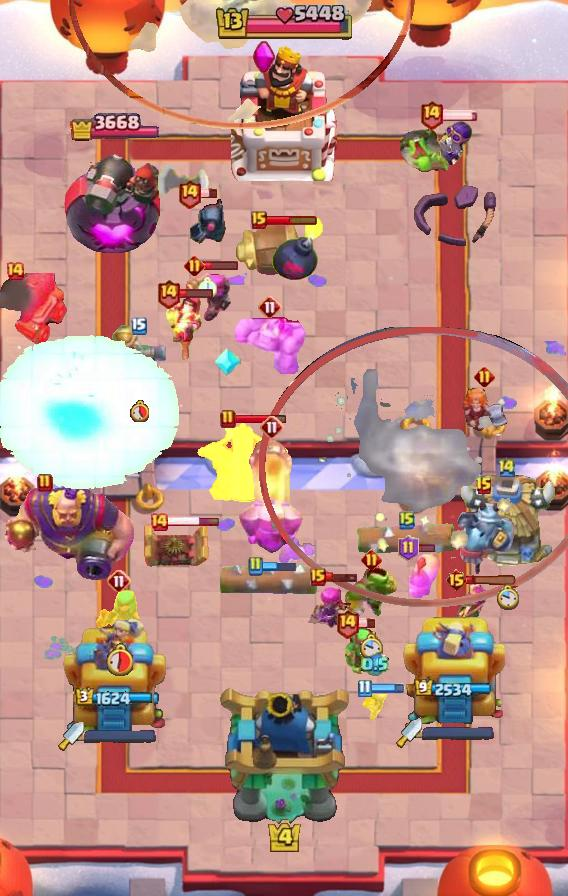archer: (454, 584, 490, 634)
archer-evolution: (302, 582, 352, 632)
axe: (157, 164, 209, 224)
bar: (265, 214, 318, 226), (166, 516, 220, 527), (234, 414, 287, 425), (466, 575, 518, 586), (441, 109, 479, 121), (323, 571, 359, 583), (262, 560, 297, 572), (202, 260, 239, 271), (369, 683, 405, 694), (178, 288, 214, 299), (357, 618, 376, 629), (199, 188, 218, 199), (417, 543, 436, 553)
bar-level: (335, 608, 360, 639), (156, 278, 181, 309), (177, 178, 202, 209), (419, 99, 444, 130), (107, 569, 131, 593), (260, 415, 284, 439), (258, 295, 282, 319), (445, 568, 468, 592), (398, 535, 419, 561), (361, 549, 382, 570), (474, 366, 495, 387), (184, 255, 205, 276), (497, 457, 517, 478), (149, 512, 169, 532), (5, 261, 25, 281), (475, 476, 493, 496), (247, 556, 263, 576), (399, 510, 415, 530), (37, 473, 53, 493), (220, 409, 236, 429), (310, 568, 326, 586), (131, 317, 147, 335), (251, 211, 267, 229), (357, 679, 372, 698)
barbarian-barrel: (232, 223, 312, 277)
bomb: (271, 214, 325, 282)
bomber-evolution: (422, 120, 474, 176)
cannoneer-tower: (64, 138, 164, 256)
clock: (105, 643, 133, 676), (359, 633, 383, 662), (496, 584, 519, 611), (130, 400, 149, 422), (198, 277, 217, 298)
dagger-duchess-tower: (401, 611, 505, 731), (62, 615, 167, 731)
dagger-duchess-tower-bar: (84, 729, 156, 743), (422, 726, 494, 740)
elixir: (361, 652, 389, 677)
evolution-symbol: (252, 40, 276, 74)
firecracker: (183, 270, 233, 324)
goblin-ball: (399, 127, 453, 175)
goblin-brawler: (343, 562, 399, 620)
golemite: (233, 316, 308, 376)
ice-spirit-evolution-symbol: (214, 346, 242, 378)
king-tower: (216, 684, 352, 826), (231, 43, 337, 181)
king-tower-bar: (213, 5, 355, 43)
mega-minion: (454, 498, 514, 576)
mini-pekka: (186, 195, 228, 249)
musketeer: (110, 325, 168, 375)
rascal-girl: (95, 588, 143, 636)
royal-hog: (409, 546, 441, 598)
skeleton: (362, 685, 388, 721)
spear-goblin: (343, 627, 381, 677)
tesla: (140, 521, 210, 571)
the-log: (218, 564, 320, 600), (356, 522, 458, 556)
tower-bar: (70, 110, 159, 145), (75, 687, 153, 707), (414, 679, 492, 699)
valkyrie: (459, 384, 509, 434)
wizard: (163, 294, 205, 364)
